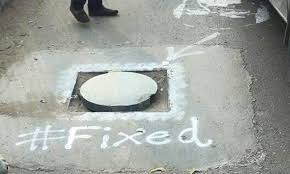Manhole-Closed: (65, 66, 180, 122)
human: (69, 1, 126, 23)
